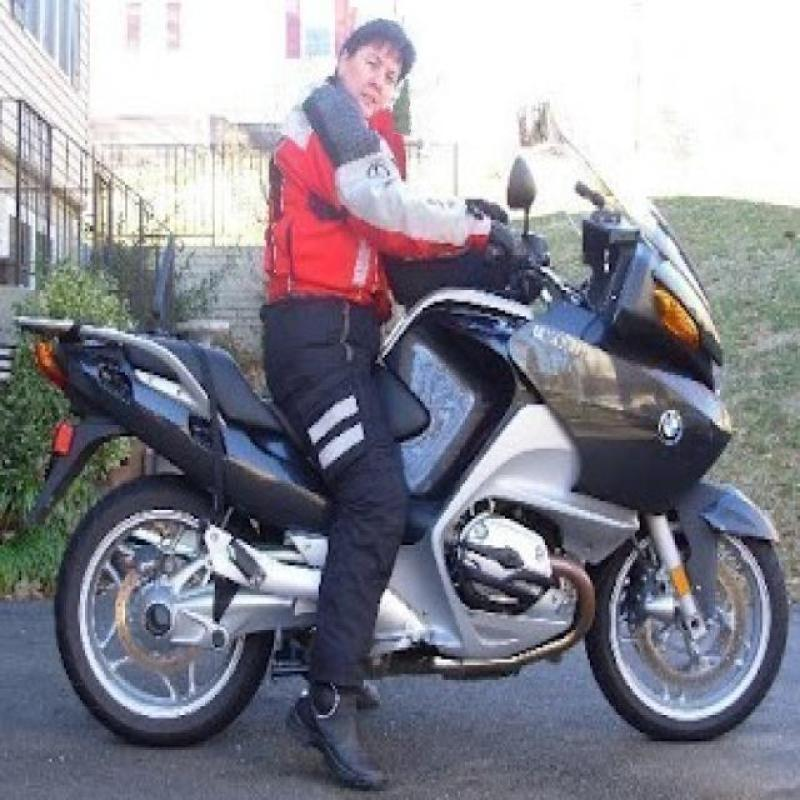nohelmet: (334, 9, 440, 136)
